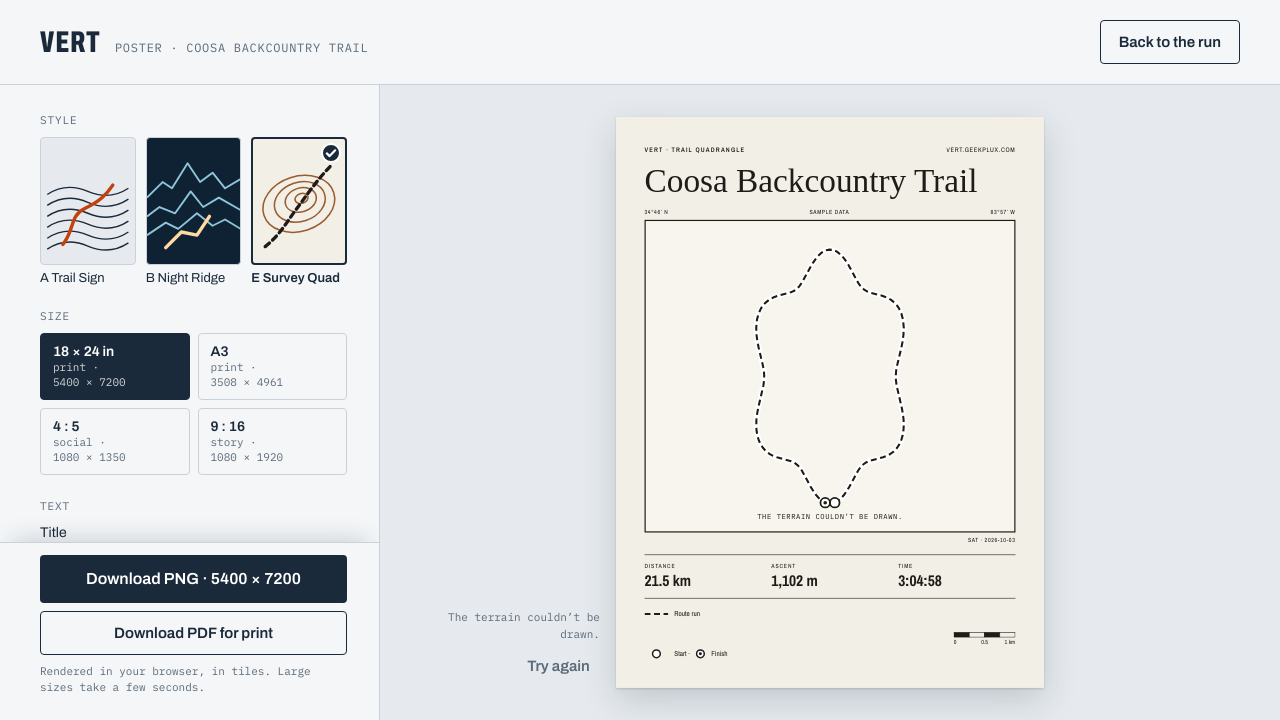
Test case: Live poster figures › E: Download asks again for a failed preview figure, so the preview shows what the file shows
This screenshot has width=1280, height=720.
Check: the button "Try again" is shown, box [517,644,600,688]
Check: the text "The terrain couldn’t be drawn." below "34°46′ N" is shown, box [757,512,903,521]
Click the button "Download PNG · 5400 × 7200". click: {"x": 194, "y": 579}
box: [40,555,347,603]
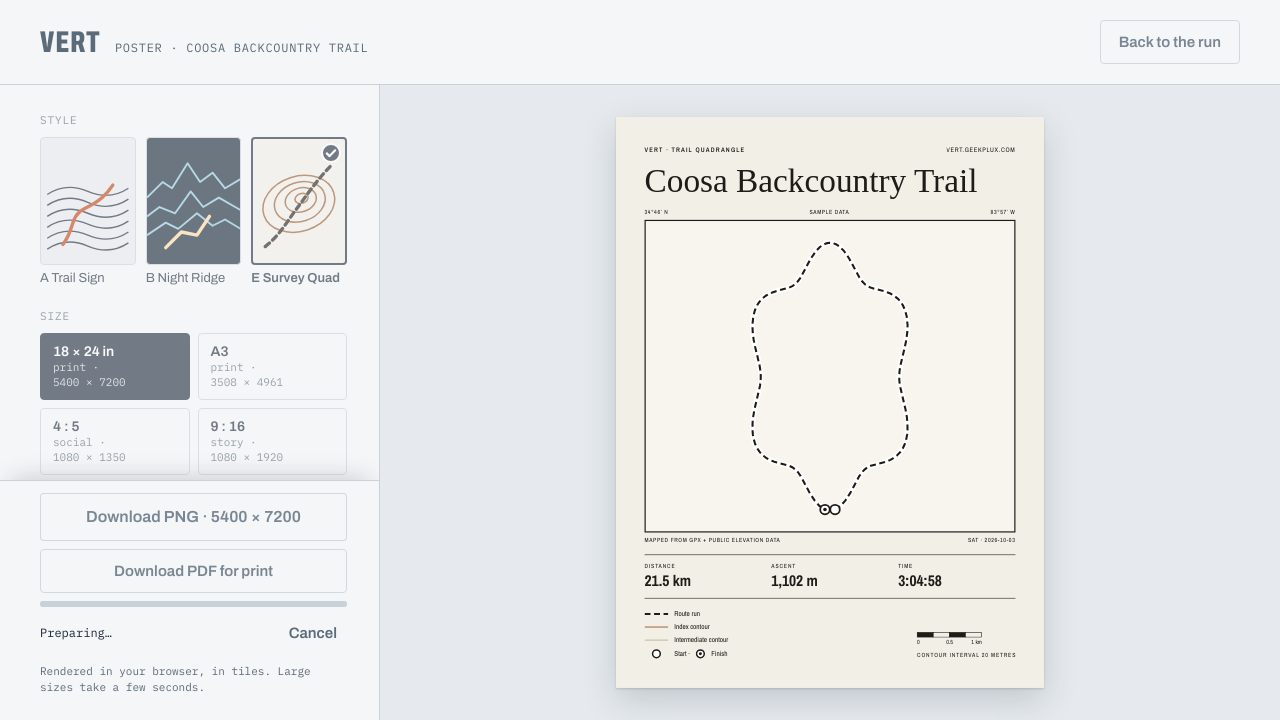
Check: the element showing "Index contour" is shown, box [644,622,710,632]
Check: the button "Try again" is gone
